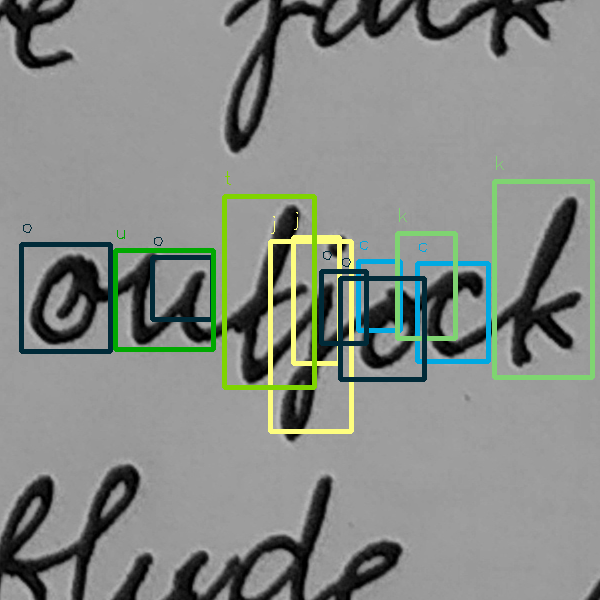c: (424, 262, 494, 363)
j: (275, 228, 352, 447)
k: (506, 193, 586, 370)
o: (24, 250, 109, 353), (355, 279, 423, 375)
t: (229, 199, 312, 391)
u: (120, 247, 213, 353)
